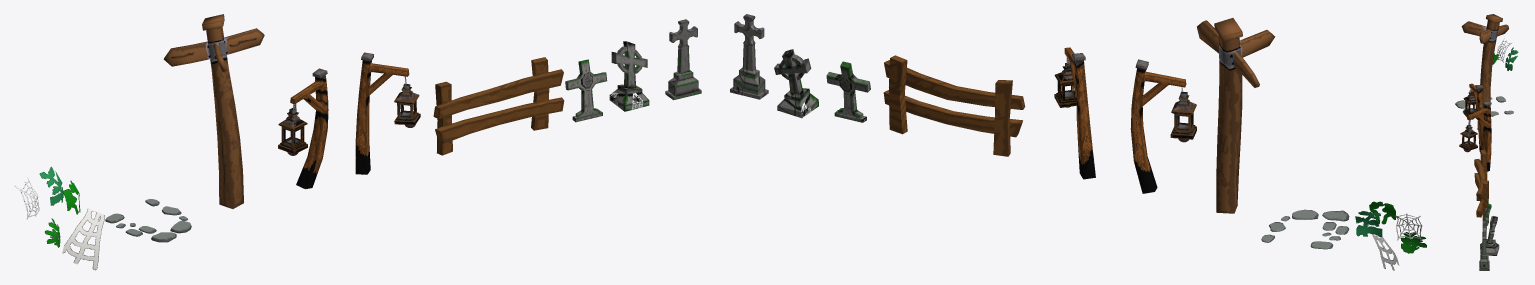
File: Empty_Group_StreetLights_&_Other.fbx
The picture shows the model from 3 angles, left to right: view 1: azimuth 30°, elevation 25°; view 2: azimuth 150°, elevation 25°; view 3: azimuth 270°, elevation 25°; orthographic projection. The views are drawn at different scales.
Parts seen in each view (by area): view 1: Street_Sign, fence, Street_Light, Street_Light.002, Tomb_Stone.001, Tomb_Stone, Tomb_Stone.002, Spider_Web, Plane.010, Cube.010; view 2: fence, Street_Sign, Street_Light, Street_Light.002, Tomb_Stone.001, Tomb_Stone, Tomb_Stone.002, Plane.010, Cube.010; view 3: Street_Sign, Street_Light.002, fence, Street_Light, Tomb_Stone.001, Tomb_Stone, Plane.010, Cube.010, Cube.013, Tomb_Stone.002.
Boxes of the visible parts, x1,y1,x2,y2 form: Street_Sign: (163,14,264,208); fence: (433,57,564,155); Street_Light: (278,68,328,189); Street_Light.002: (355,52,420,174); Tomb_Stone.001: (609,41,649,111); Tomb_Stone: (665,19,701,100); Tomb_Stone.002: (565,59,607,122); Spider_Web: (62,208,104,270); Plane.010: (105,199,191,242); Cube.010: (39,166,63,205); fence: (883,55,1025,156); Street_Sign: (1197,18,1275,213); Street_Light: (1130,59,1196,193); Street_Light.002: (1054,47,1095,179); Tomb_Stone.001: (774,49,818,118); Tomb_Stone: (730,14,768,99); Tomb_Stone.002: (826,61,870,122); Plane.010: (1261,209,1349,249); Cube.010: (1355,211,1382,236); Street_Sign: (1461,14,1508,129); Street_Light.002: (1459,101,1491,171); fence: (1474,149,1488,225); Street_Light: (1463,83,1483,151); Tomb_Stone.001: (1480,216,1499,255); Tomb_Stone: (1479,221,1489,270); Plane.010: (1455,96,1513,116); Cube.010: (1505,47,1518,70); Cube.013: (1497,40,1511,62); Tomb_Stone.002: (1482,203,1491,241).
Size of the model in its own units: 5.55 by 1.68 by 0.7702.
2 materials, 2 textured.
